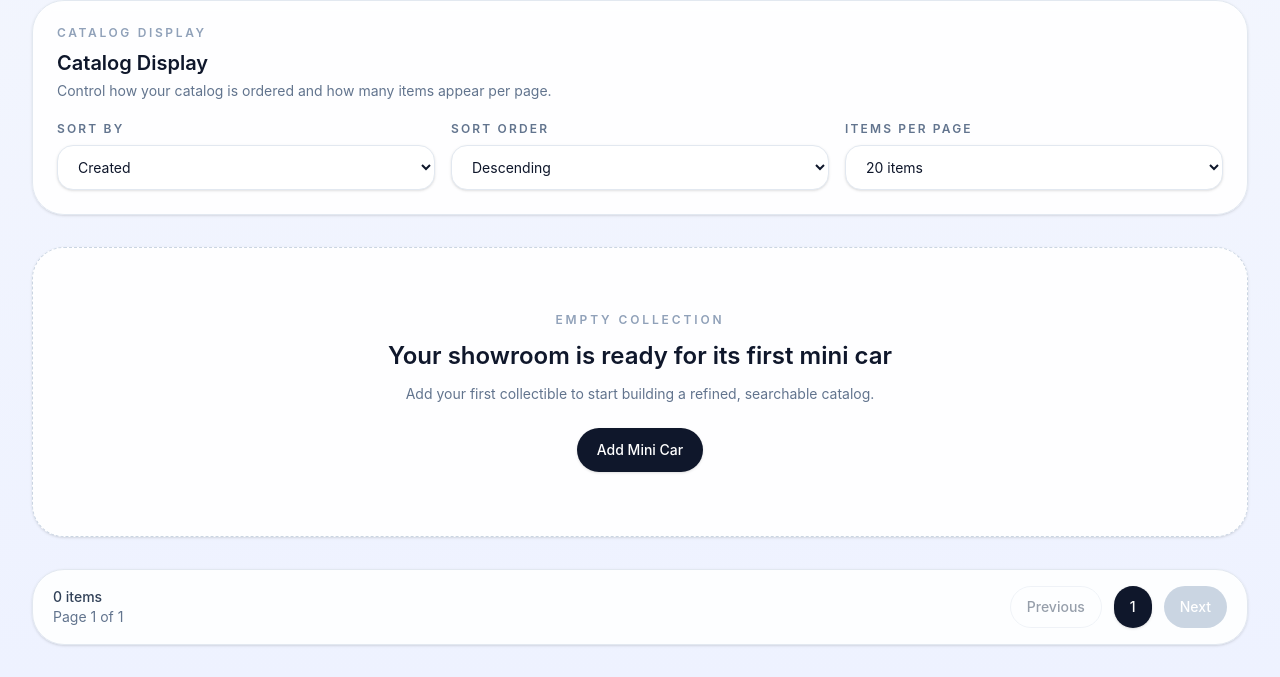
App › renders the empty state and opens the create form from it
(page scrolled)
Expected: the heading "Your showroom is ready for its first mini car" is shown, [388,341,892,370]
Click the button "Add Mini Car" at (640, 450), box [577,428,703,472]
(page scrolled)
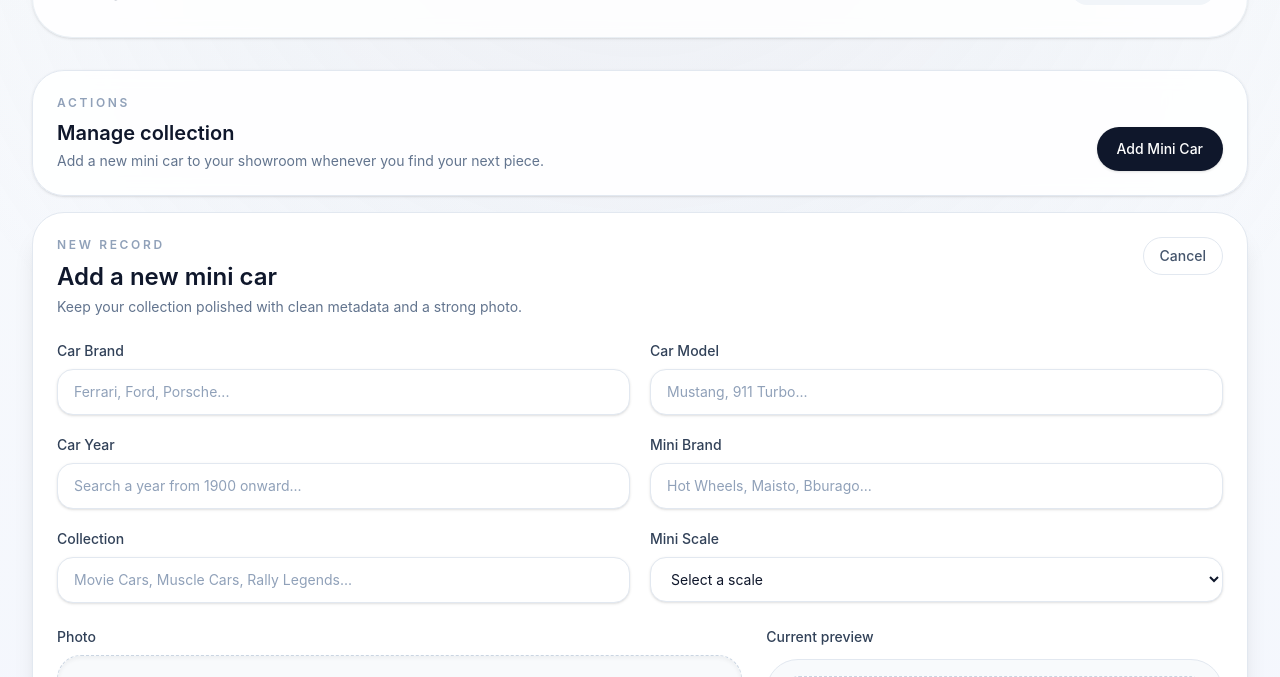
Result: the heading "Add a new mini car" is shown at [57,262,277,291]
